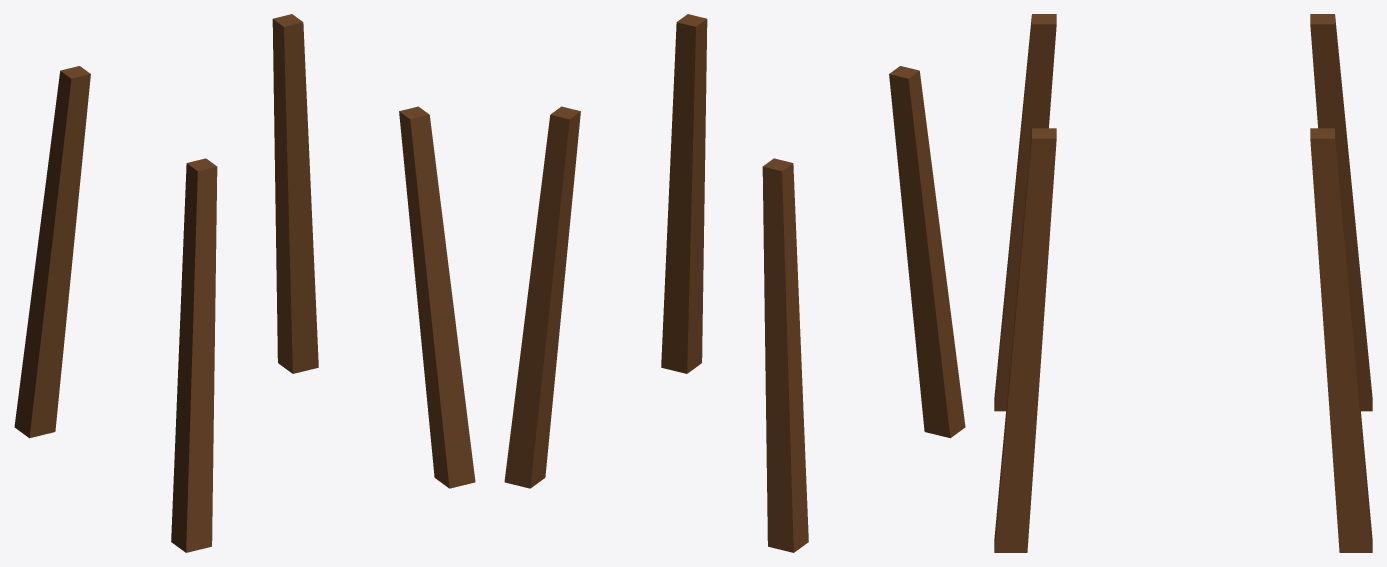
The model's file is Wooden_Poles.fbx.
3 views of the same model, side by side, from view 1: azimuth 30°, elevation 25°; view 2: azimuth 150°, elevation 25°; view 3: azimuth 270°, elevation 25° (orthographic). The views are drawn at different scales.
Visible parts, largest first — view 1: Wooden_Poles; view 2: Wooden_Poles; view 3: Wooden_Poles.
Part boxes in pixels (bbox=[...]): Wooden_Poles: bbox=[14, 14, 475, 552]; Wooden_Poles: bbox=[504, 14, 965, 552]; Wooden_Poles: bbox=[994, 14, 1372, 552].
Bounding box in the file's own units: 83.62 × 100 × 85.91.
